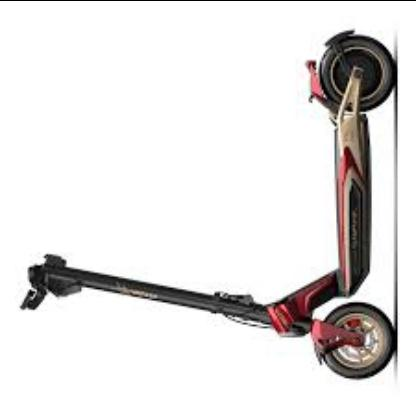bike: (15, 34, 401, 381)
